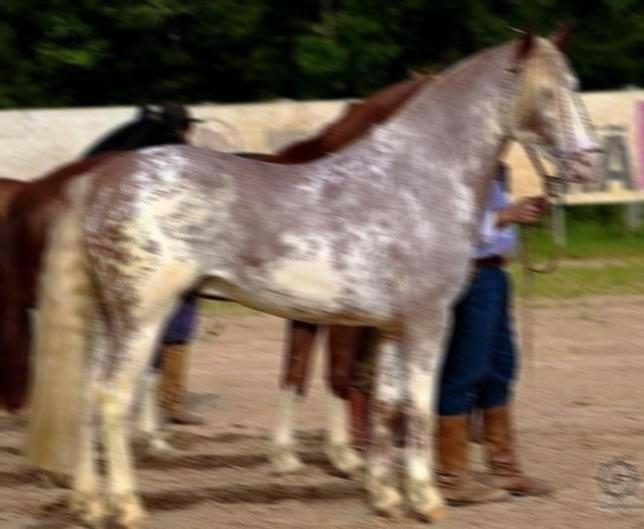horse: (14, 18, 590, 527)
